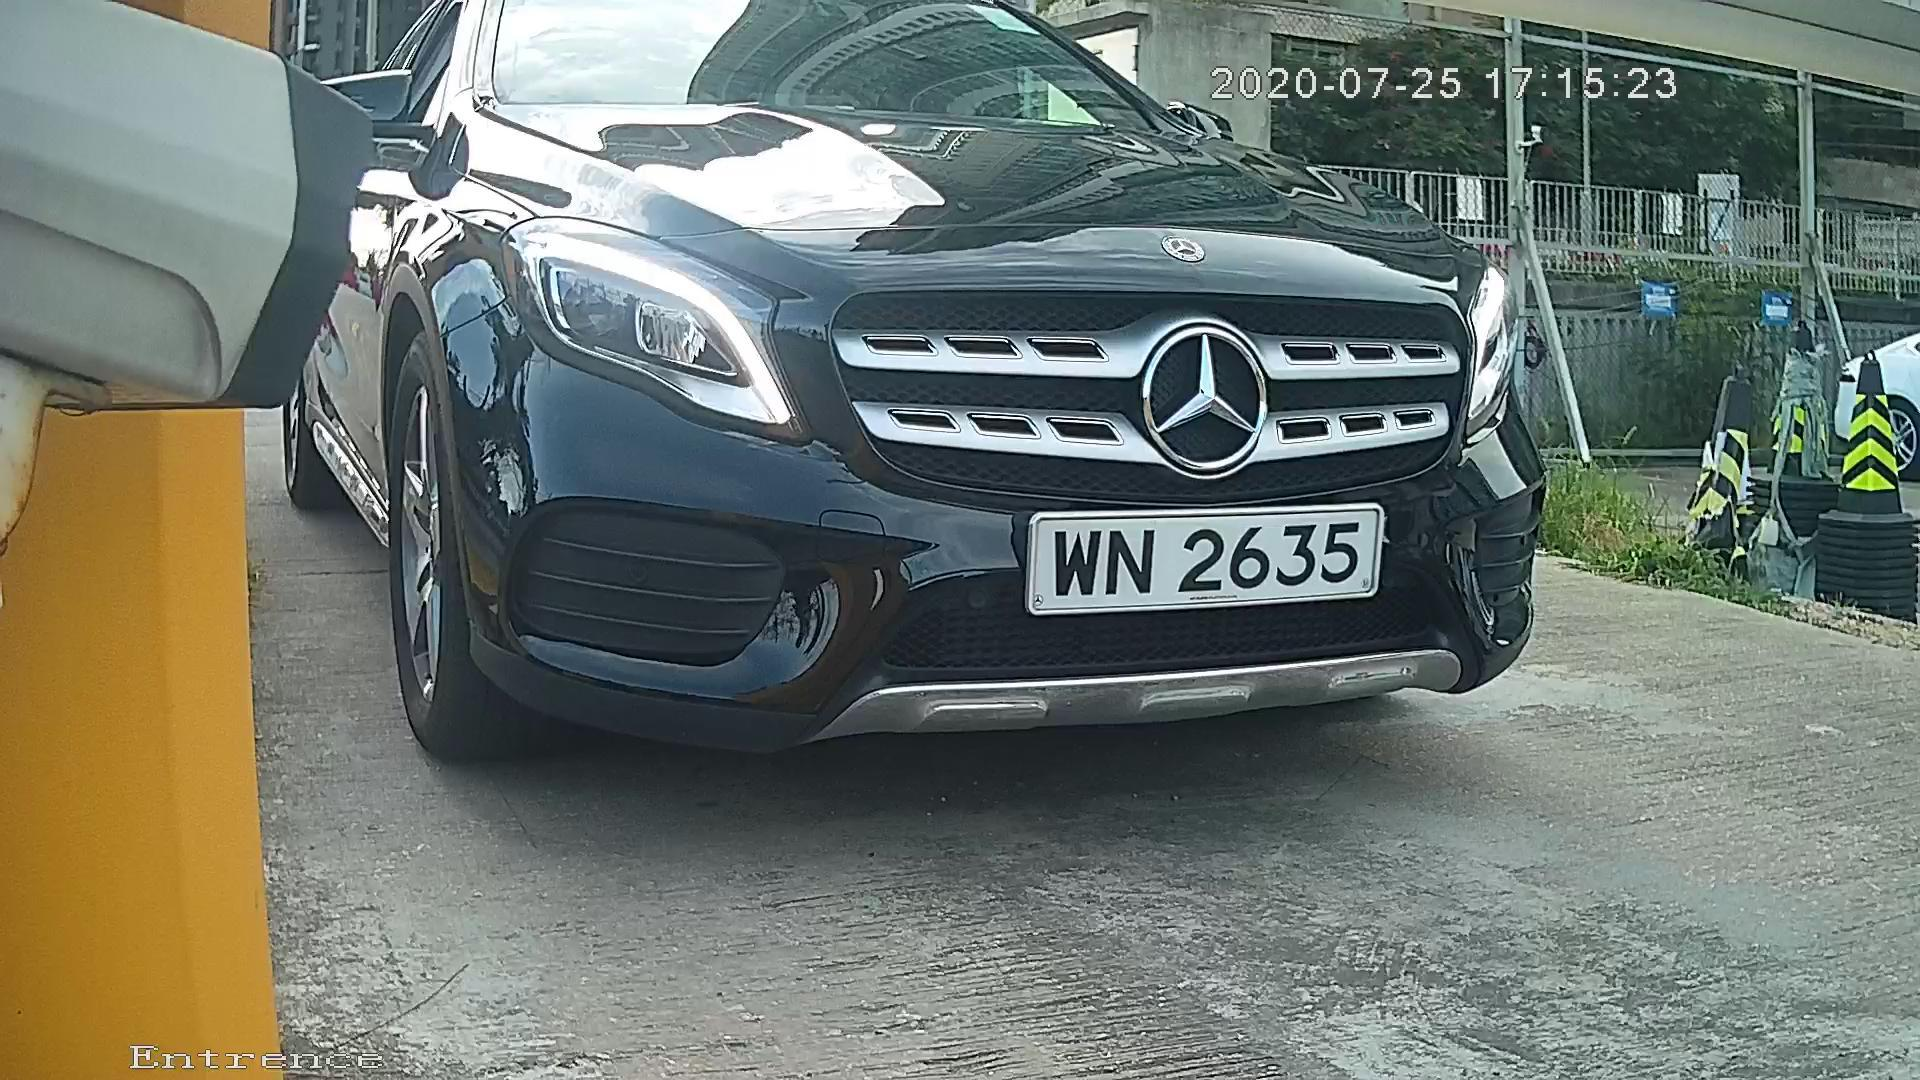privatecar: (171, 11, 1698, 835)
